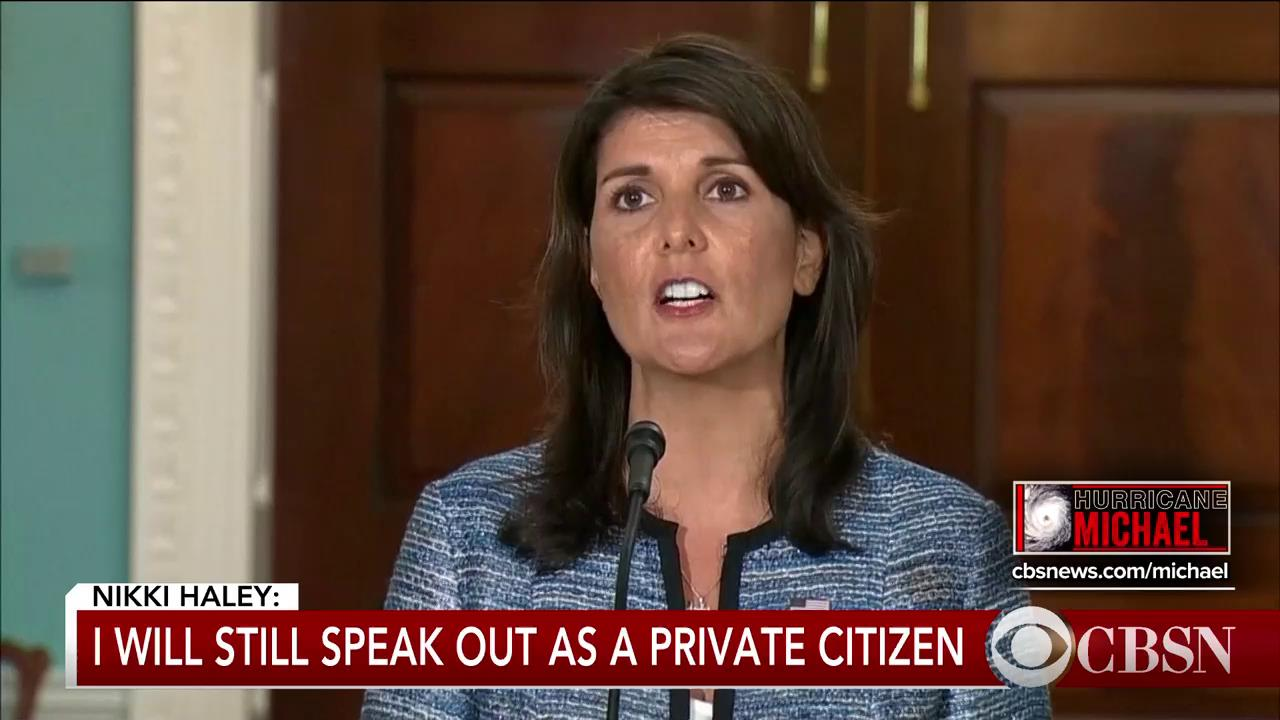CBSN: (1075, 623, 1236, 676)
HURRICANE: (1070, 486, 1228, 509)
I WILL STILL SPEAK OUT AS A PRIVATE CITIZEN: (89, 622, 967, 668)
MICHAEL: (1071, 510, 1210, 548)
NIKKI HALEY:: (90, 581, 280, 611)
cbsnews.com/michael: (1010, 560, 1229, 584)
